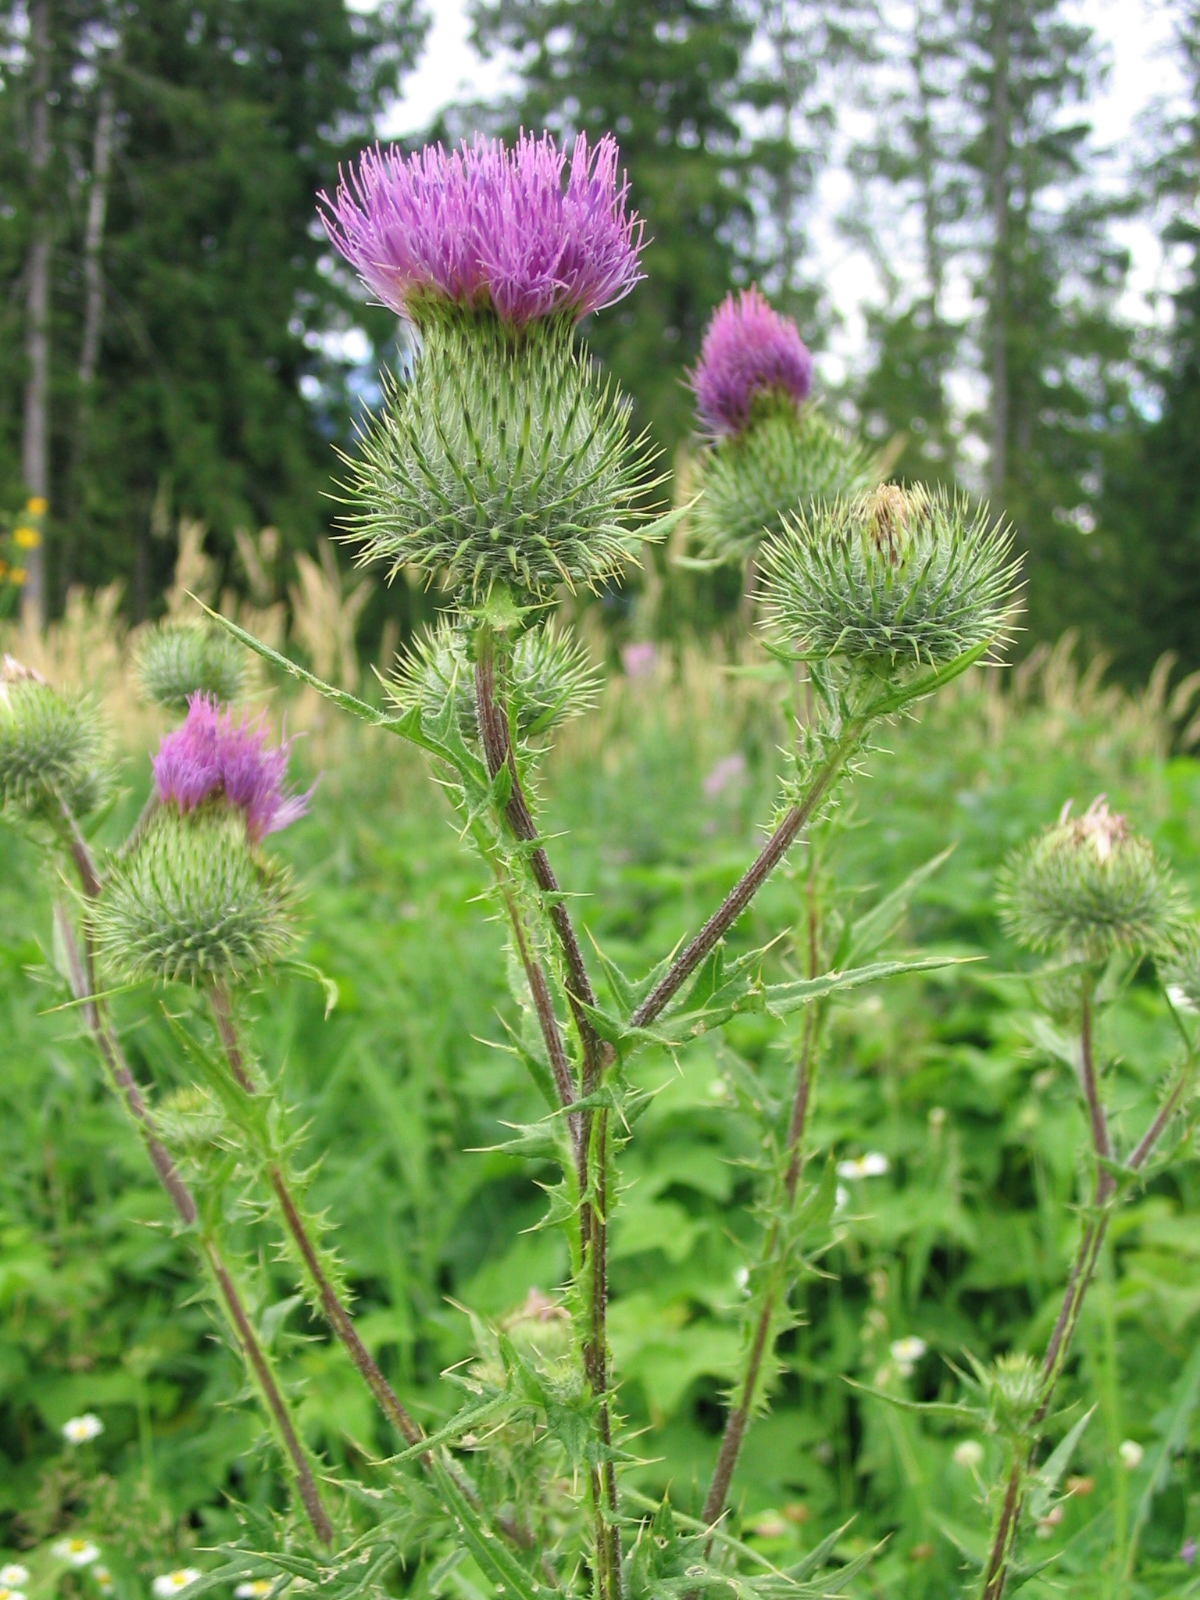thistle: (279, 132, 666, 619), (111, 700, 300, 1004), (695, 281, 887, 563)
